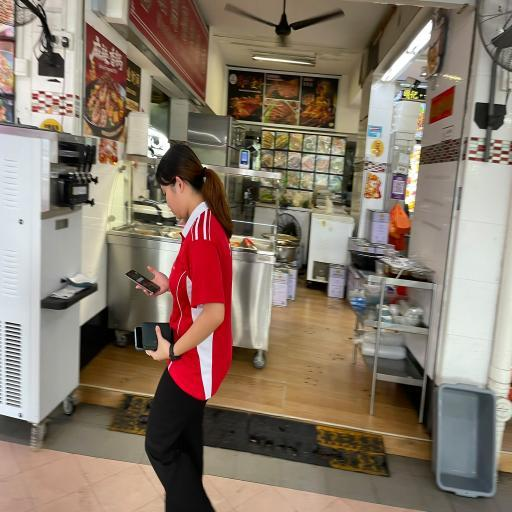person_left: (133, 146, 236, 504)
